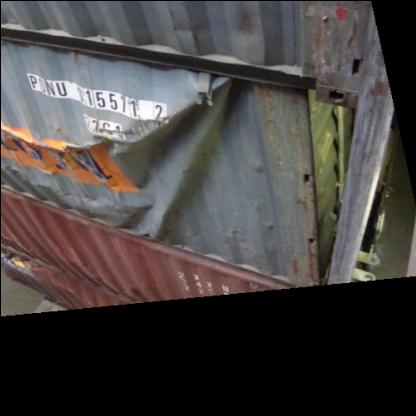Damage: (5, 73, 235, 170), (1, 150, 229, 245)
